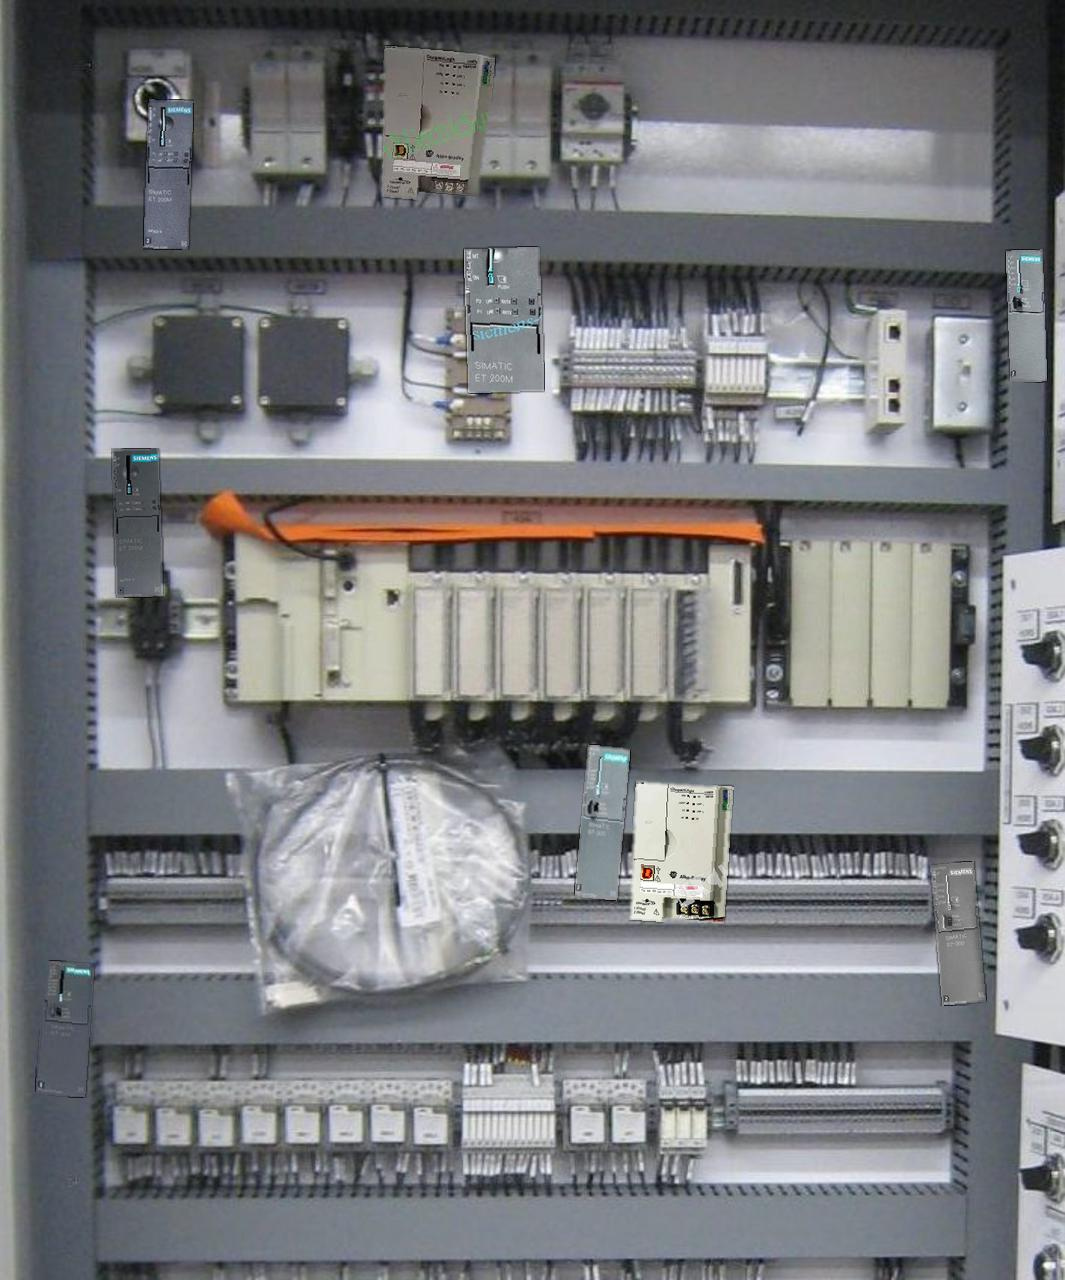AllenBradley: (382, 46, 494, 199), (630, 782, 732, 921)
Siemens: (575, 745, 629, 900), (931, 861, 985, 1005), (36, 961, 92, 1097), (1005, 250, 1046, 381)
